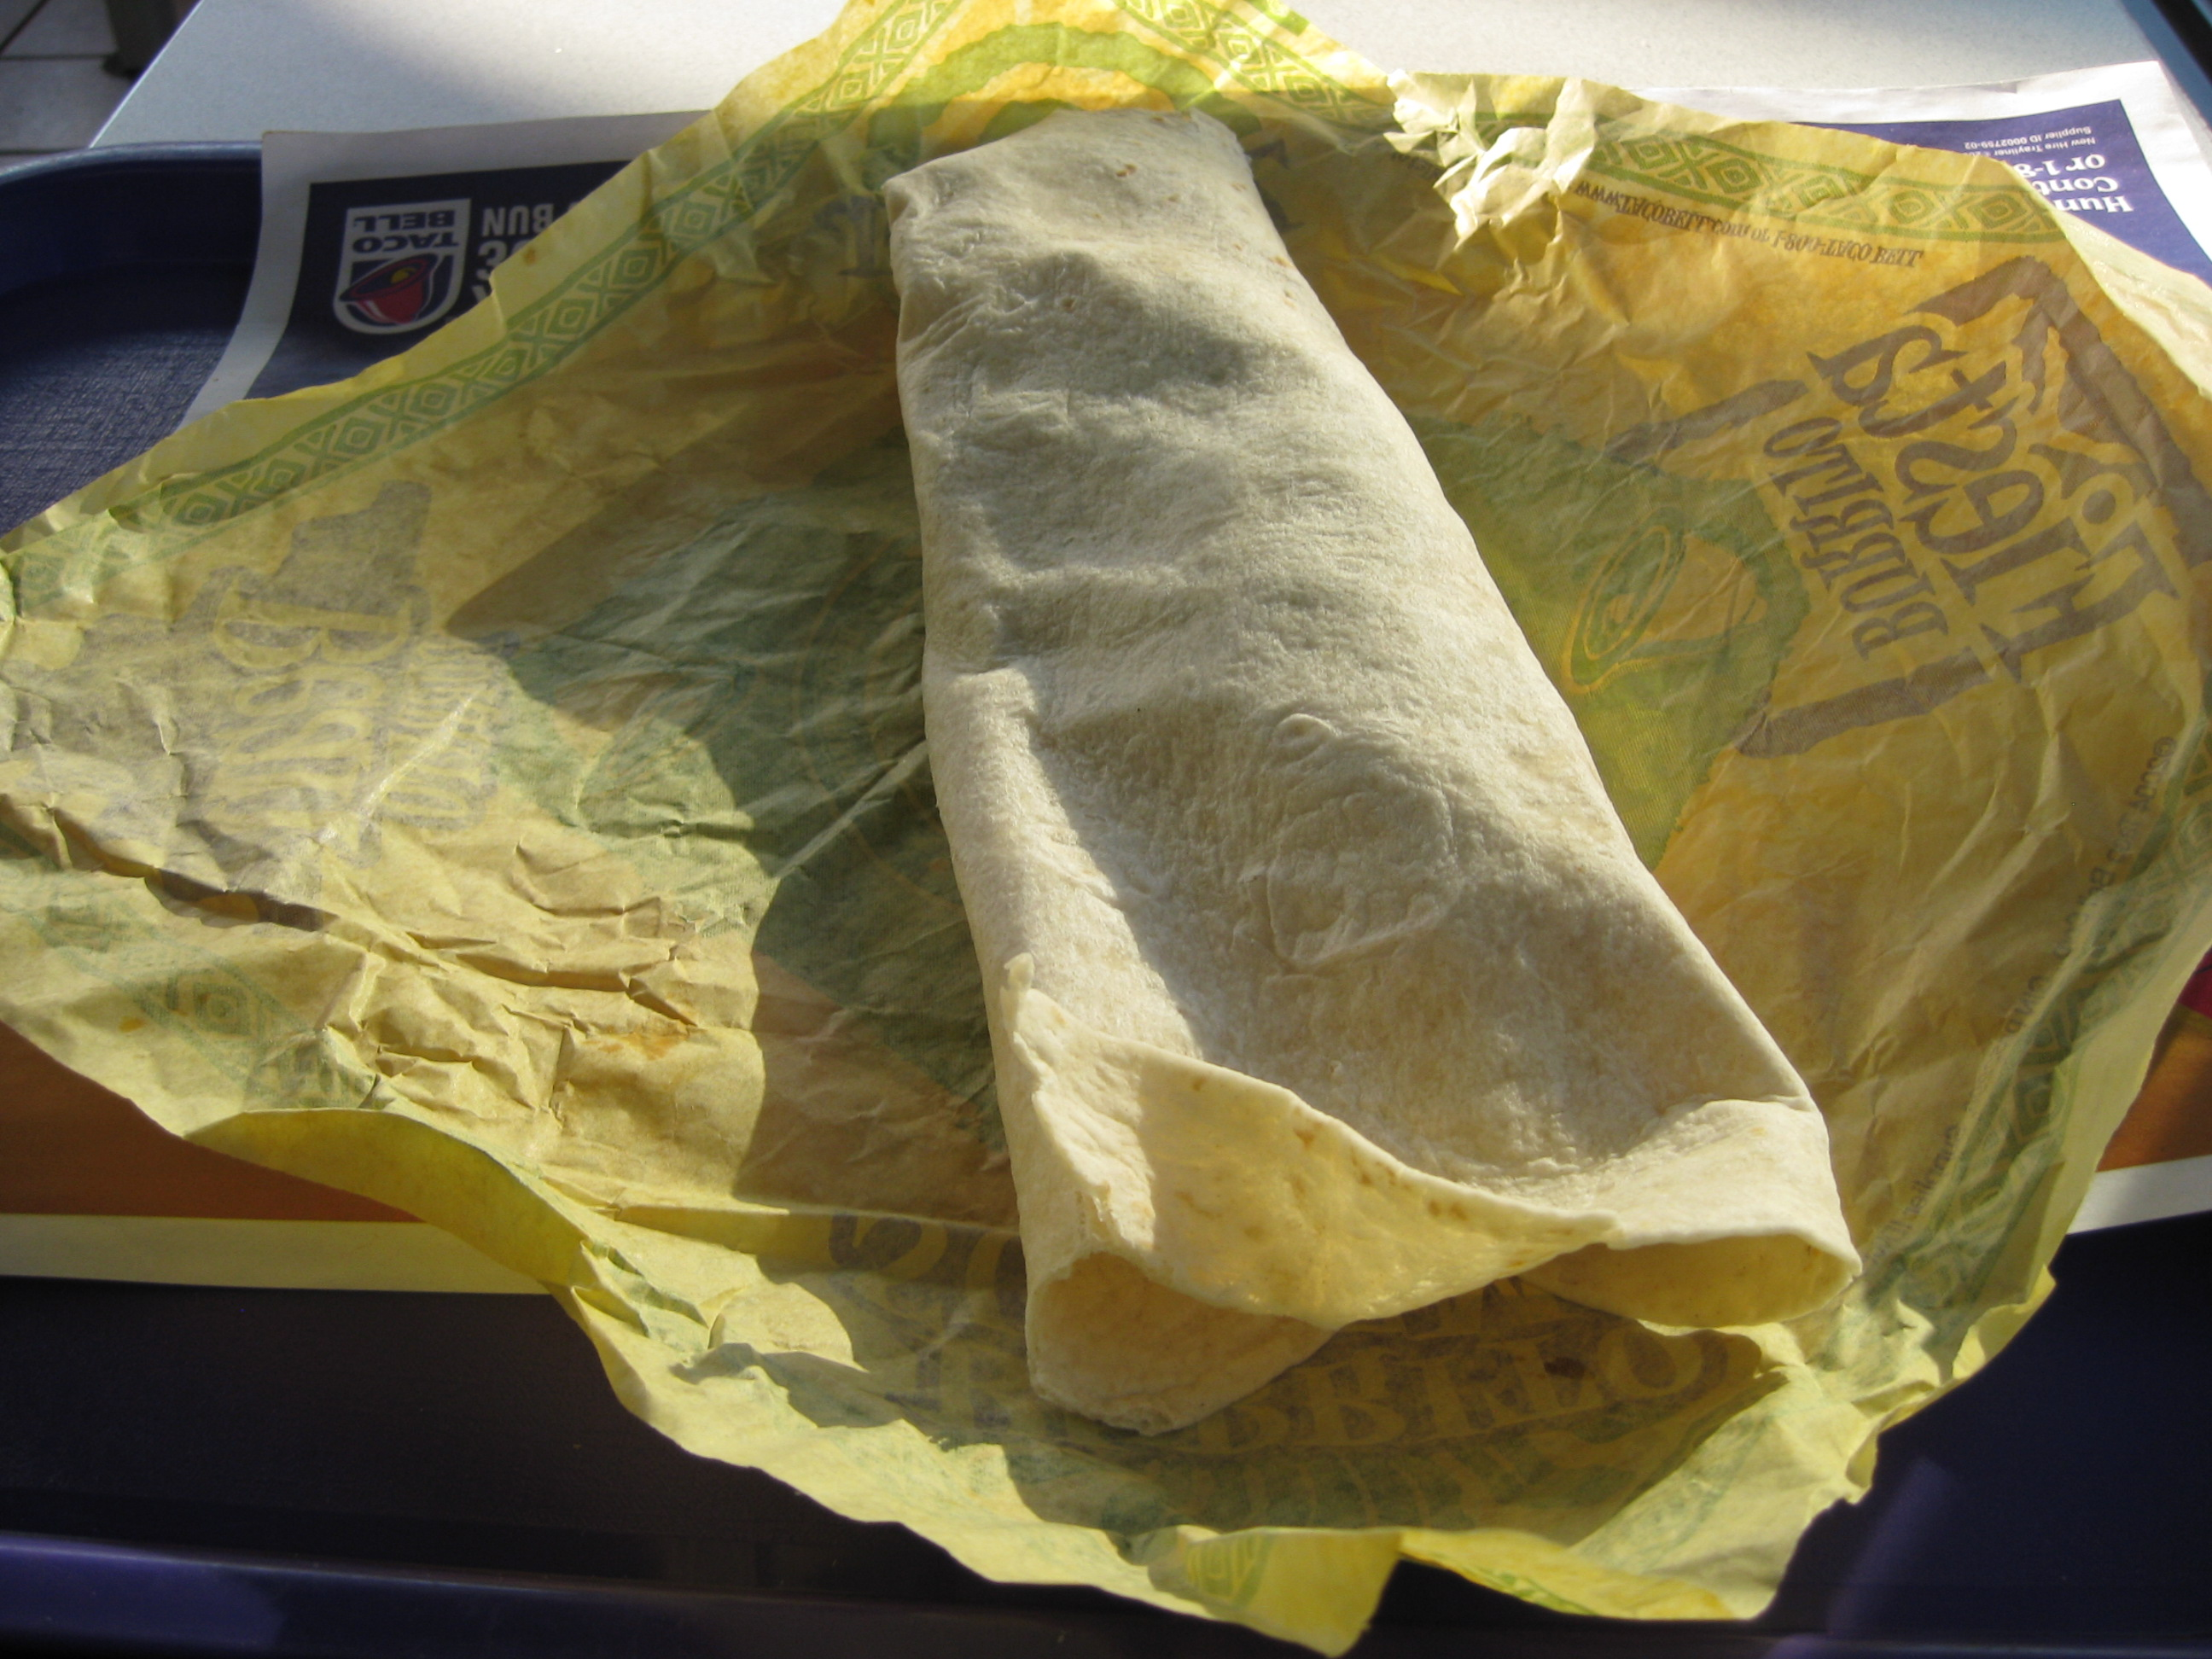burrito: (834, 83, 1918, 1437)
